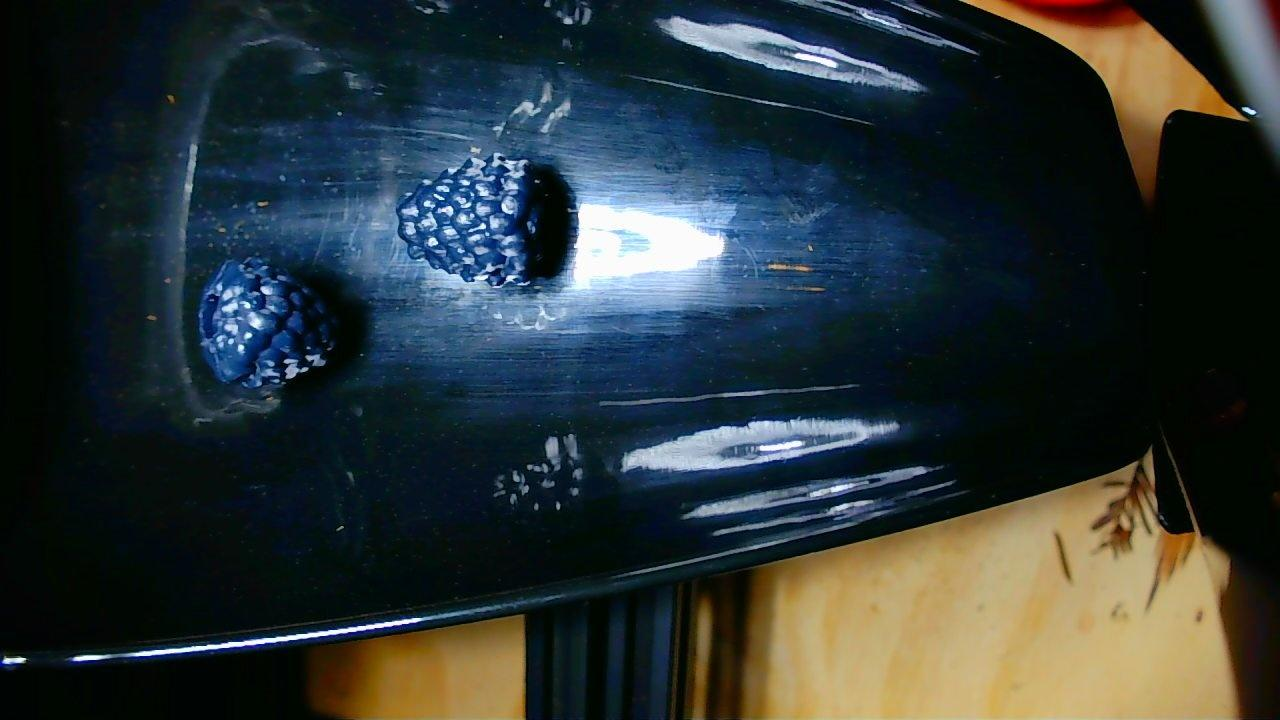berry: (397, 153, 541, 286), (197, 257, 337, 388)
